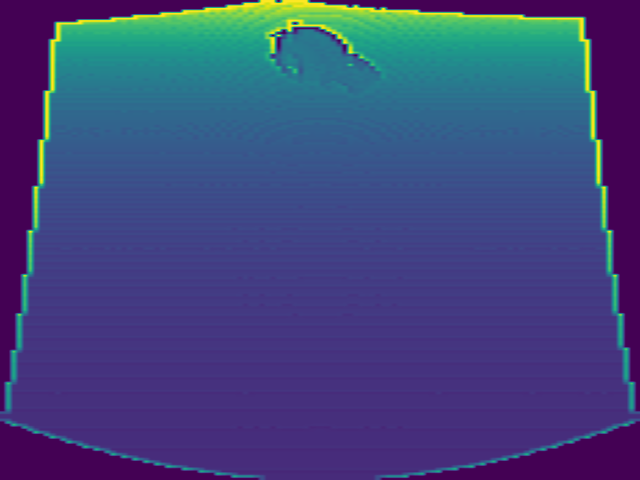car_0027: (269, 21, 380, 94)
